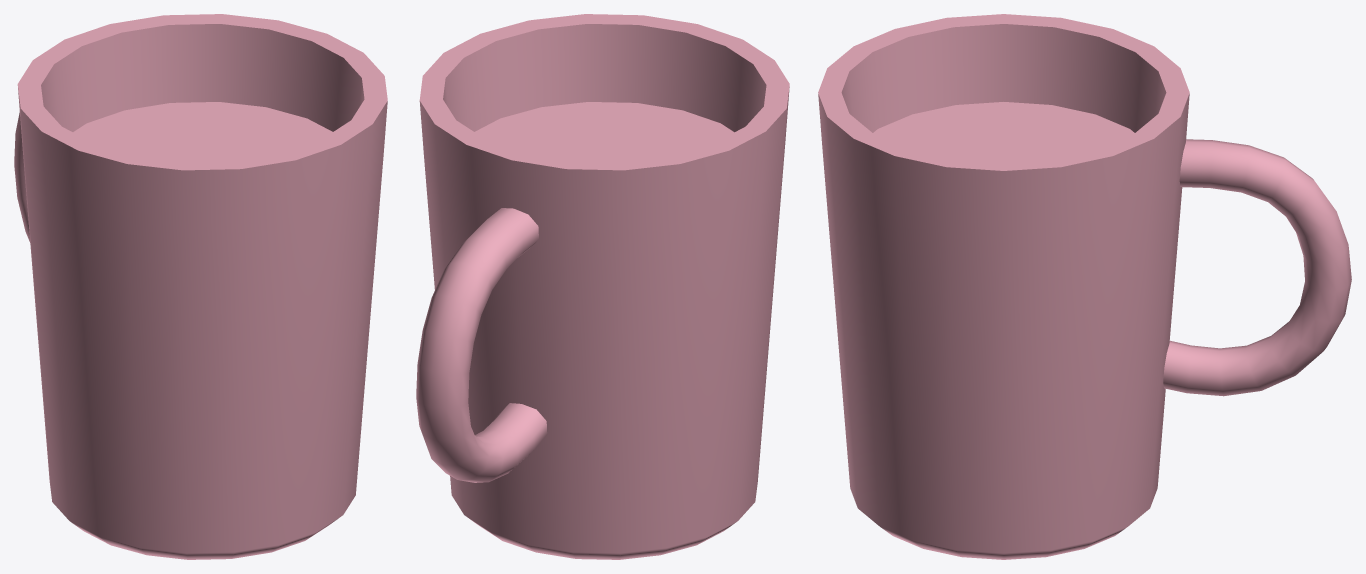
Rendered from CupFull.fbx.
3 renders of one model, left to right at view 1: azimuth 30°, elevation 25°; view 2: azimuth 150°, elevation 25°; view 3: azimuth 270°, elevation 25°, orthographic.
Visible parts, largest first — view 1: CupFull; view 2: CupFull; view 3: CupFull.
Part boxes in pixels (x1,y1,x2,y2): CupFull: (14,14,387,559); CupFull: (416,14,789,559); CupFull: (818,14,1351,559).
Size of the model in its own units: 8.42 by 10.23 by 12.09.
